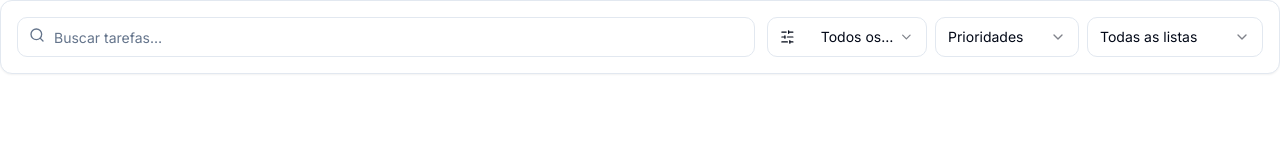
Test case: WorkTaskFilters › exibe uma lista apenas uma vez quando a compatibilidade fornece entradas repetidas
Click the dropdown labelled "lista".
click(1175, 37)  # box [1087,17,1263,57]
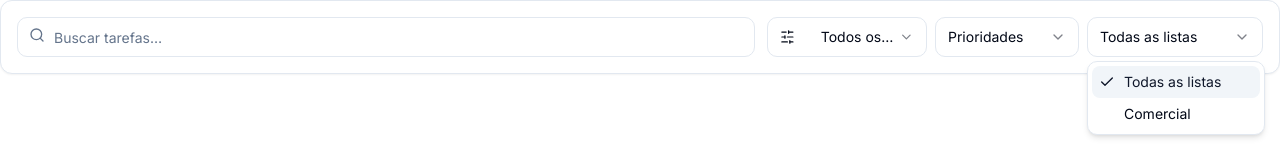
expect the number of options "Comercial" is 1: met, box [1124,105,1191,122]
